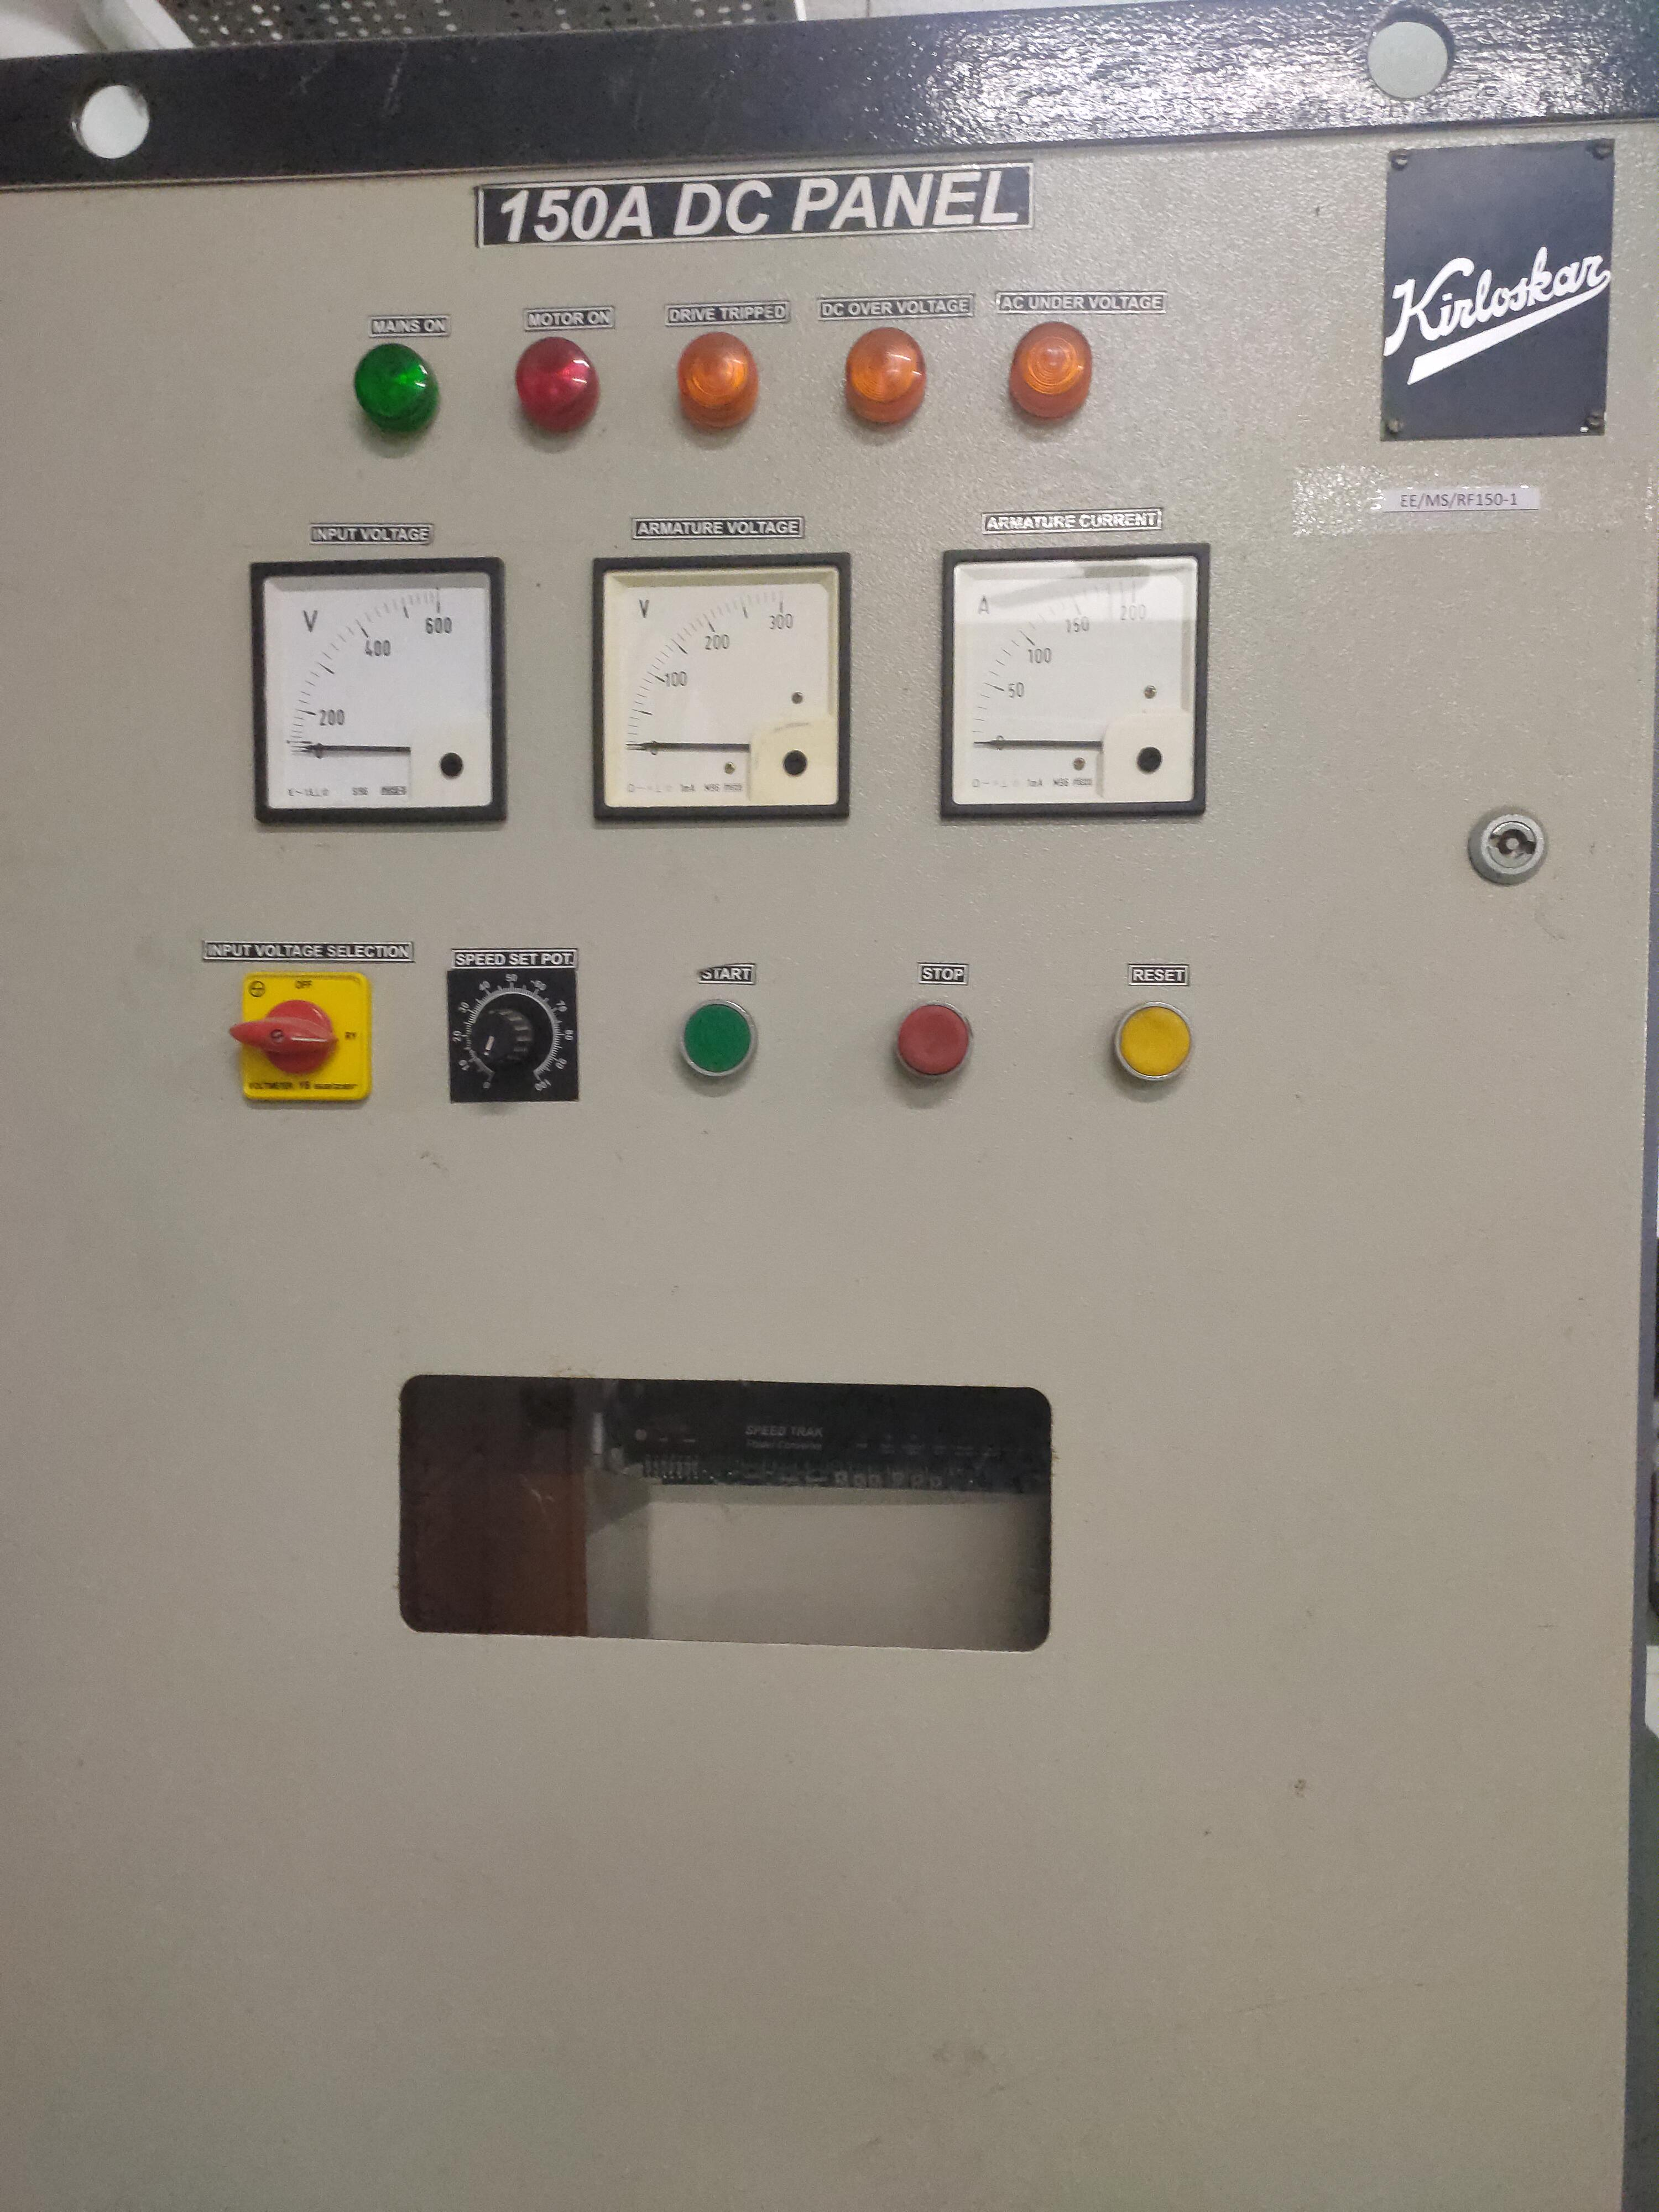Light Indications: (328, 273, 1124, 519)
